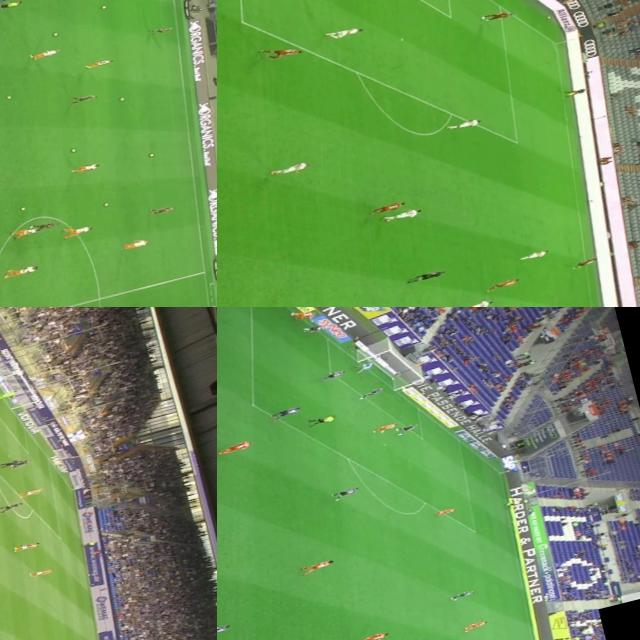ball: (478, 12, 489, 21), (5, 92, 14, 99), (146, 151, 156, 157), (68, 146, 78, 152), (286, 310, 296, 316), (102, 200, 110, 207), (100, 2, 108, 8), (20, 205, 28, 210), (52, 31, 59, 35), (118, 96, 125, 100)
player: (378, 202, 422, 226), (322, 22, 362, 42), (270, 160, 313, 178), (264, 41, 302, 61), (444, 114, 486, 131), (372, 196, 410, 214), (517, 246, 554, 264), (297, 557, 334, 575), (267, 404, 302, 422), (484, 275, 522, 291), (326, 484, 359, 502), (2, 264, 38, 278), (62, 222, 92, 238), (26, 219, 59, 233), (218, 440, 251, 454), (484, 7, 514, 22), (448, 586, 478, 601), (28, 46, 59, 60), (12, 538, 43, 552), (320, 366, 349, 380), (70, 160, 100, 173), (459, 296, 494, 307), (463, 616, 490, 630), (69, 91, 98, 104), (147, 202, 176, 215), (13, 224, 41, 237), (370, 420, 398, 433), (355, 629, 388, 640), (121, 237, 151, 249), (290, 307, 317, 320), (357, 386, 384, 399), (395, 420, 420, 434), (300, 321, 326, 334), (147, 24, 175, 36), (0, 498, 25, 511), (83, 58, 113, 68), (573, 255, 596, 268), (217, 619, 231, 640), (432, 504, 458, 515), (352, 360, 375, 372), (10, 457, 32, 468), (20, 486, 44, 496), (0, 388, 17, 400), (30, 566, 53, 574), (0, 457, 17, 467)
